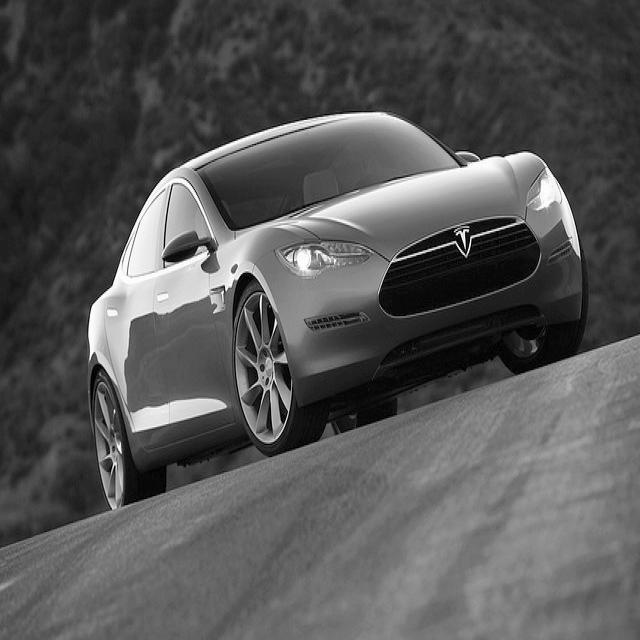car: (86, 110, 588, 510)
